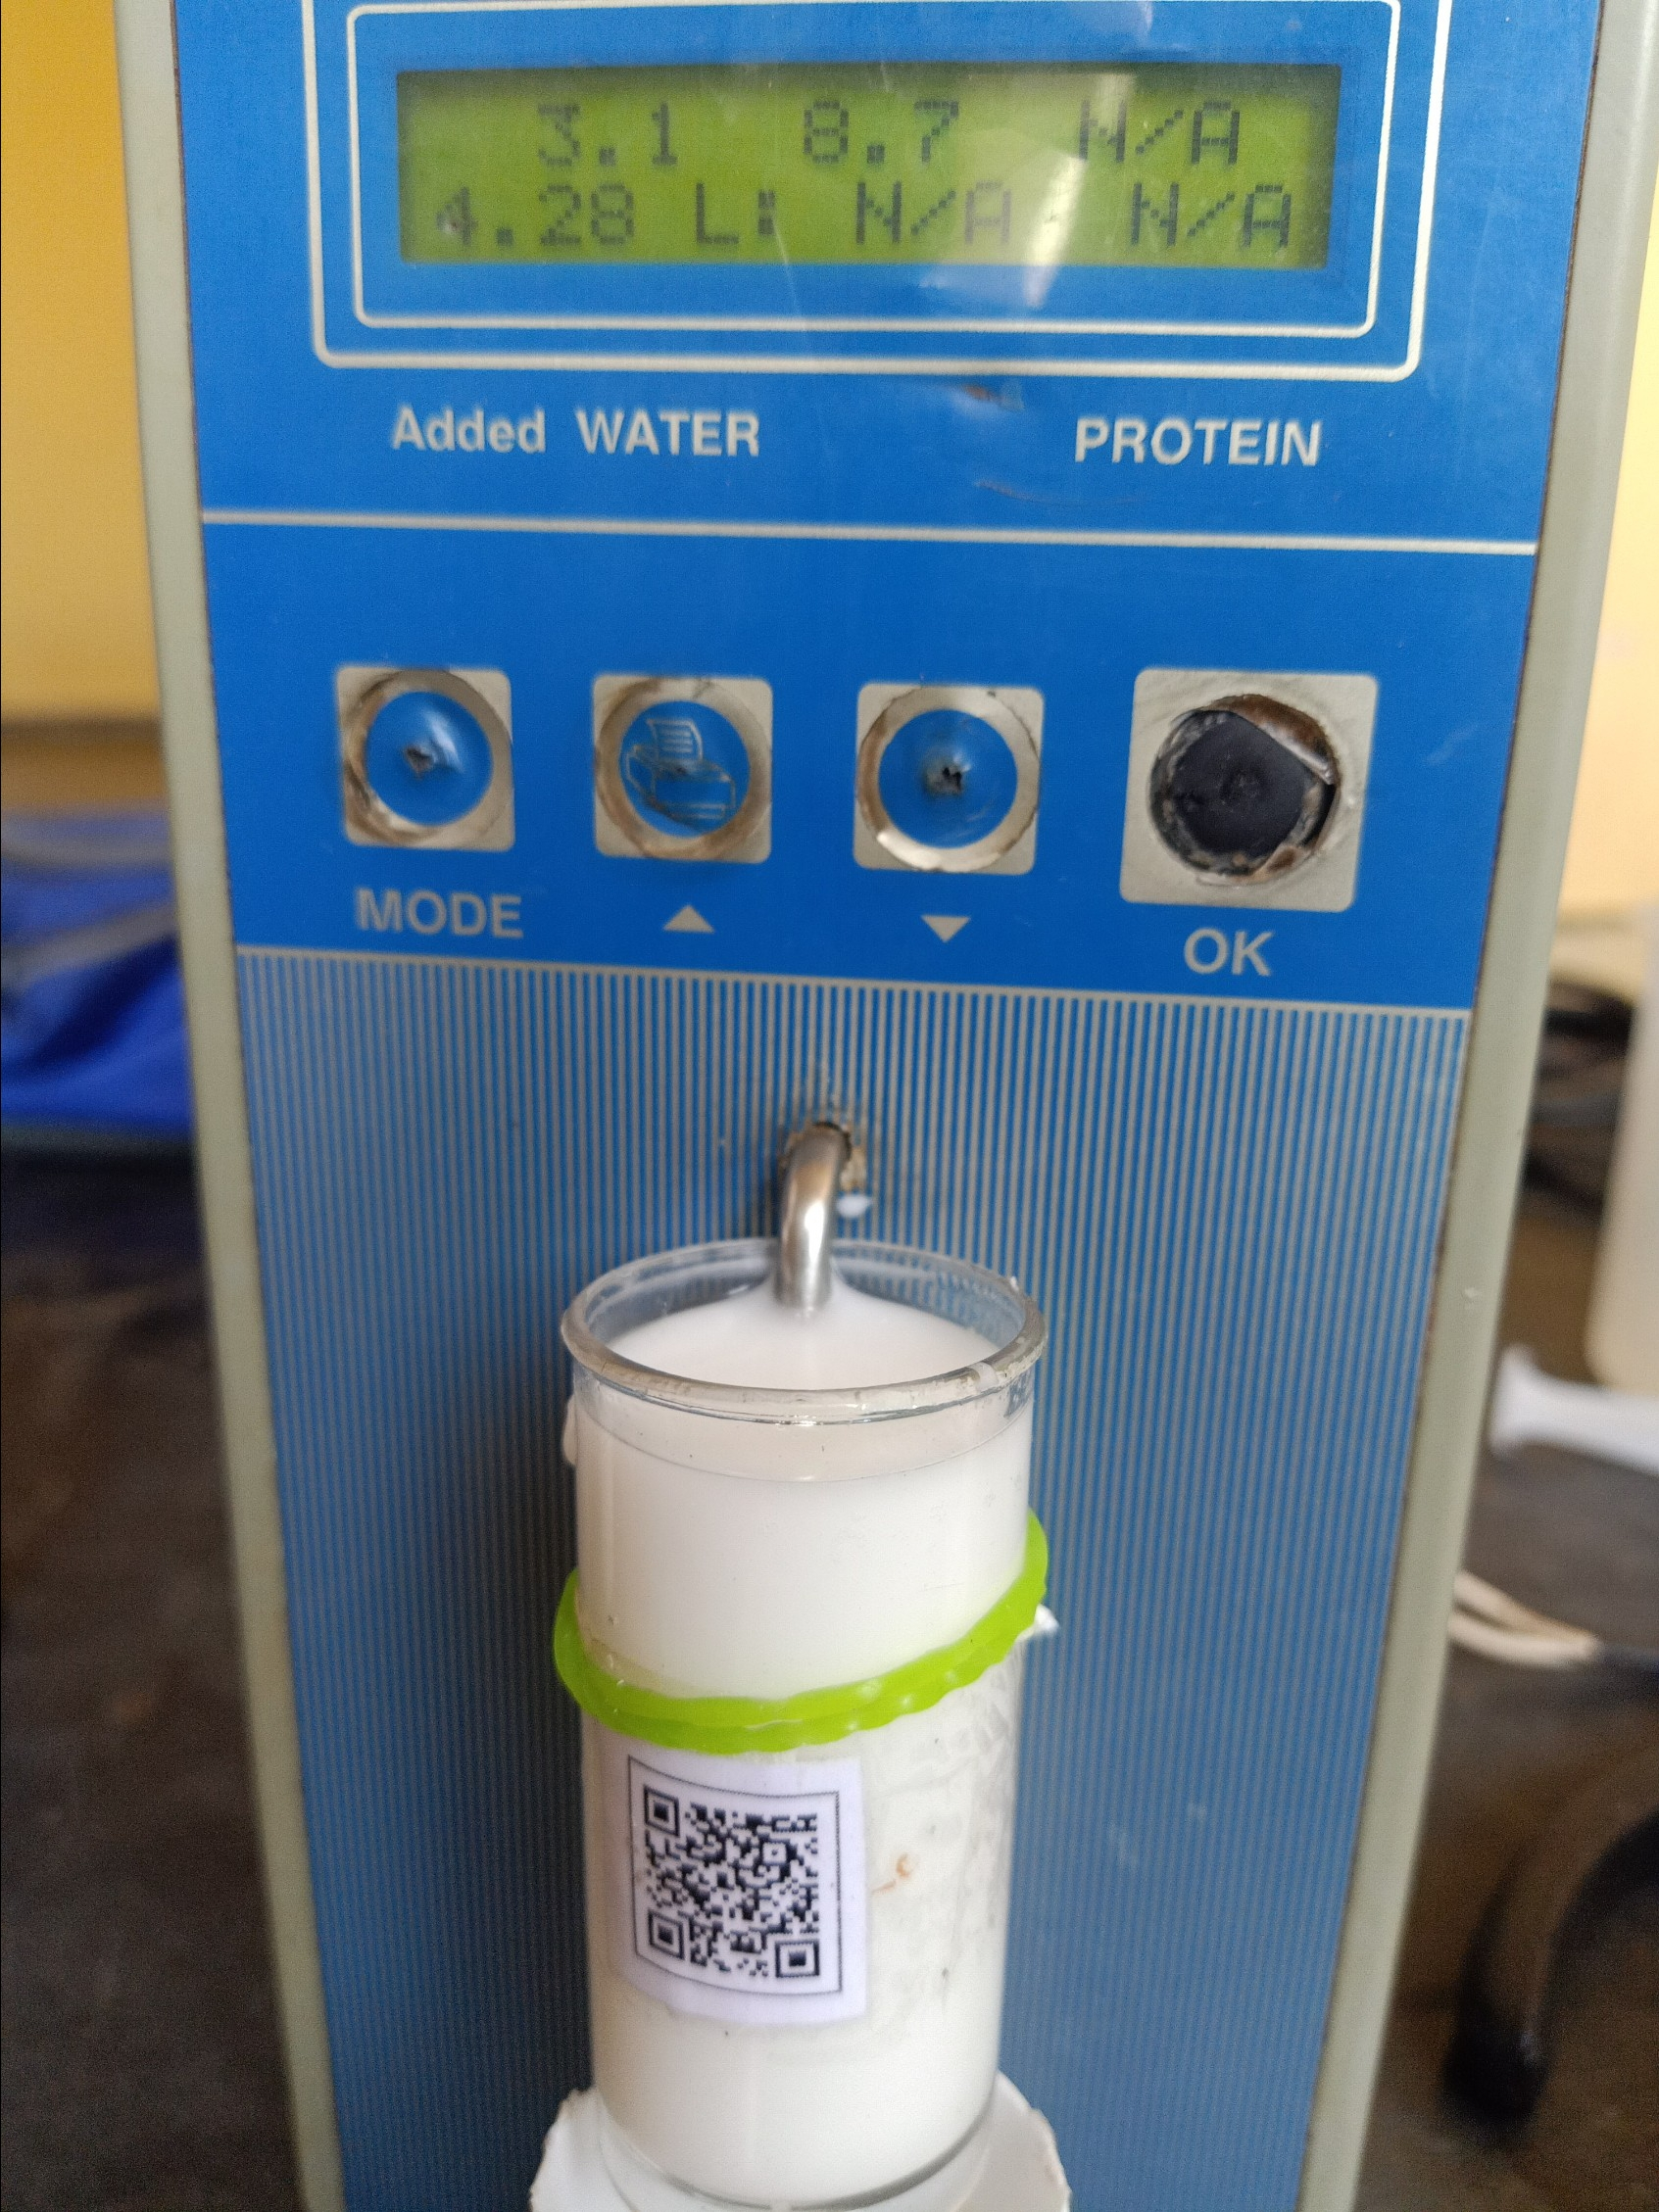lcd: (378, 49, 1378, 308)
qr: (605, 1750, 882, 2024)
